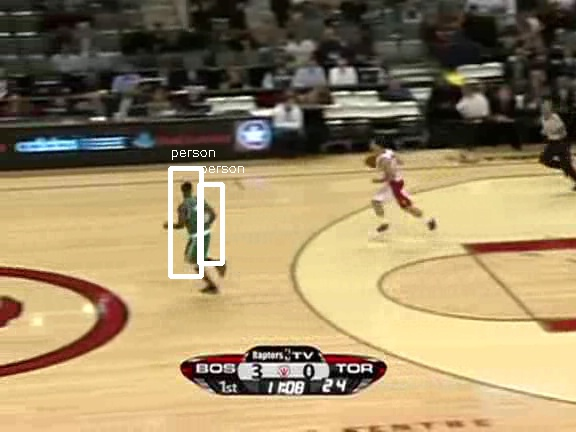person: (183, 193, 217, 274), (182, 193, 216, 274), (184, 193, 218, 274), (183, 192, 217, 273), (183, 194, 217, 275)
target_negative: (154, 291, 571, 359), (325, 294, 527, 407), (513, 5, 559, 102), (337, 111, 348, 296), (574, 124, 576, 382), (100, 349, 398, 350)
